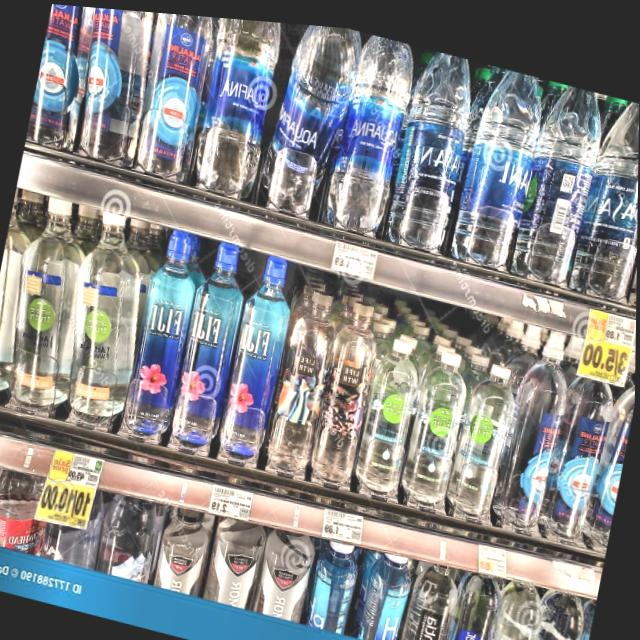Bottles: (38, 193, 182, 457), (356, 31, 504, 269), (423, 48, 567, 286), (197, 225, 323, 487), (308, 20, 442, 248), (155, 214, 272, 474), (110, 208, 225, 468), (174, 11, 310, 219), (248, 255, 366, 491), (0, 184, 107, 437), (479, 305, 595, 537), (241, 16, 365, 231), (113, 7, 242, 204), (512, 69, 624, 292), (56, 4, 186, 189), (296, 281, 401, 491), (429, 330, 537, 518), (390, 325, 489, 518), (21, 1, 124, 177), (346, 313, 433, 503), (537, 358, 624, 544), (569, 83, 639, 300), (0, 172, 53, 411)
